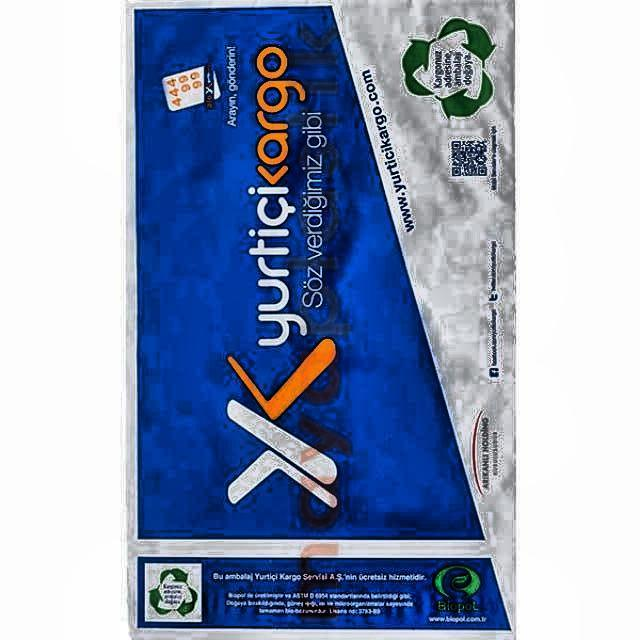plastic: (128, 1, 515, 639)
